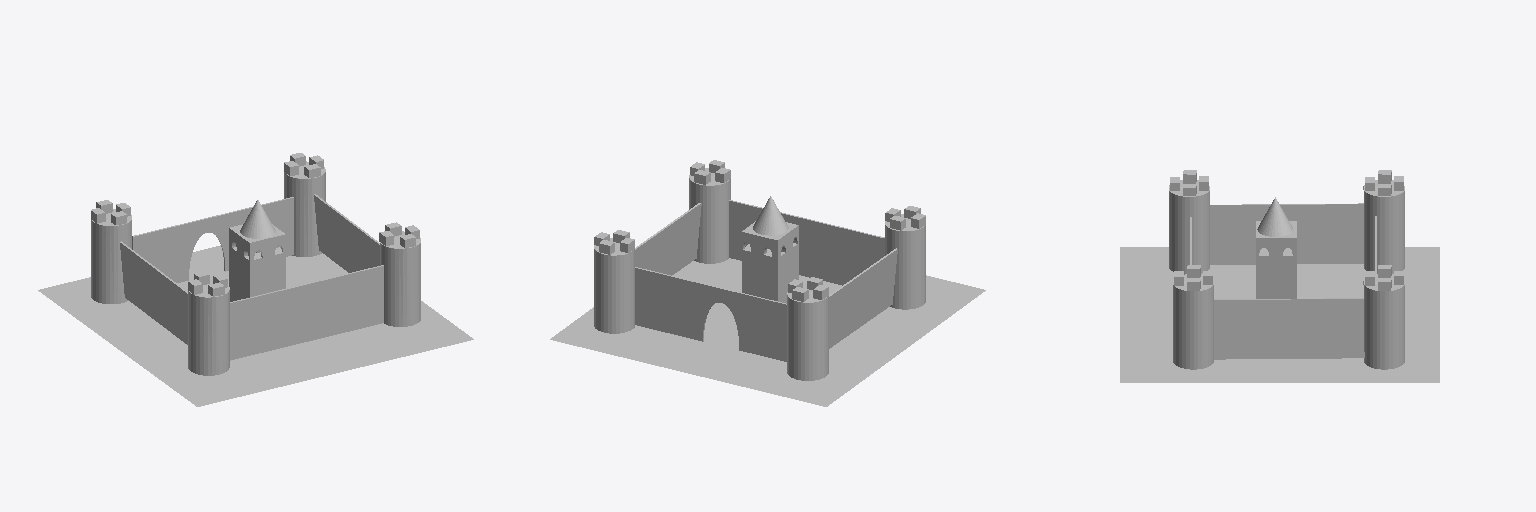
File: castelo.obj
3 renders of one model, left to right at view 1: azimuth 30°, elevation 25°; view 2: azimuth 150°, elevation 25°; view 3: azimuth 270°, elevation 25°, orthographic.
Parts seen in each view (by area): view 1: Plane, Cube.001_Cube.002, Cube.000_Cube.007, Cube.005_Cube.009, Cube.008_Cube.014, Cube.003_Cube.004, Cube.006_Cube.012, Cube.004_Cube.005, Cube.007_Cube.013, Cube.002_Cube.003, Cone; view 2: Plane, Cube.000_Cube.007, Cube.001_Cube.002, Cube.006_Cube.012, Cube.007_Cube.013, Cube.004_Cube.005, Cube.003_Cube.004, Cube.005_Cube.009, Cube.008_Cube.014, Cube.002_Cube.003, Cone; view 3: Plane, Cube.002_Cube.003, Cube.003_Cube.004, Cube.007_Cube.013, Cube.008_Cube.014, Cube.005_Cube.009, Cube.006_Cube.012, Cube.004_Cube.005, Cone.
Boxes of the visible parts, x1=… form: Plane: x1=38, y1=245, x2=473, y2=406; Cube.001_Cube.002: x1=230, y1=265, x2=383, y2=360; Cube.000_Cube.007: x1=132, y1=197, x2=293, y2=282; Cube.005_Cube.009: x1=188, y1=271, x2=229, y2=375; Cube.008_Cube.014: x1=379, y1=222, x2=420, y2=326; Cube.003_Cube.004: x1=120, y1=241, x2=187, y2=344; Cube.006_Cube.012: x1=91, y1=200, x2=131, y2=303; Cube.004_Cube.005: x1=229, y1=224, x2=285, y2=301; Cube.007_Cube.013: x1=284, y1=153, x2=325, y2=256; Cube.002_Cube.003: x1=314, y1=194, x2=379, y2=272; Cone: x1=240, y1=200, x2=275, y2=238; Plane: x1=550, y1=258, x2=985, y2=406; Cube.000_Cube.007: x1=635, y1=267, x2=786, y2=361; Cube.001_Cube.002: x1=729, y1=200, x2=884, y2=285; Cube.006_Cube.012: x1=787, y1=277, x2=828, y2=380; Cube.007_Cube.013: x1=594, y1=230, x2=634, y2=333; Cube.004_Cube.005: x1=742, y1=221, x2=798, y2=303; Cube.003_Cube.004: x1=829, y1=248, x2=897, y2=348; Cube.005_Cube.009: x1=885, y1=206, x2=925, y2=309; Cube.008_Cube.014: x1=689, y1=160, x2=730, y2=263; Cube.002_Cube.003: x1=635, y1=203, x2=701, y2=275; Cone: x1=753, y1=196, x2=788, y2=235; Plane: x1=1120, y1=247, x2=1439, y2=382; Cube.002_Cube.003: x1=1214, y1=298, x2=1364, y2=359; Cube.003_Cube.004: x1=1210, y1=203, x2=1363, y2=264; Cube.007_Cube.013: x1=1363, y1=265, x2=1404, y2=369; Cube.008_Cube.014: x1=1173, y1=265, x2=1213, y2=369; Cube.005_Cube.009: x1=1169, y1=170, x2=1209, y2=274; Cube.006_Cube.012: x1=1363, y1=170, x2=1404, y2=273; Cube.004_Cube.005: x1=1256, y1=221, x2=1296, y2=298; Cone: x1=1257, y1=197, x2=1292, y2=236.
Bounding box in the file's own units: 15.31 × 6.21 × 15.31.